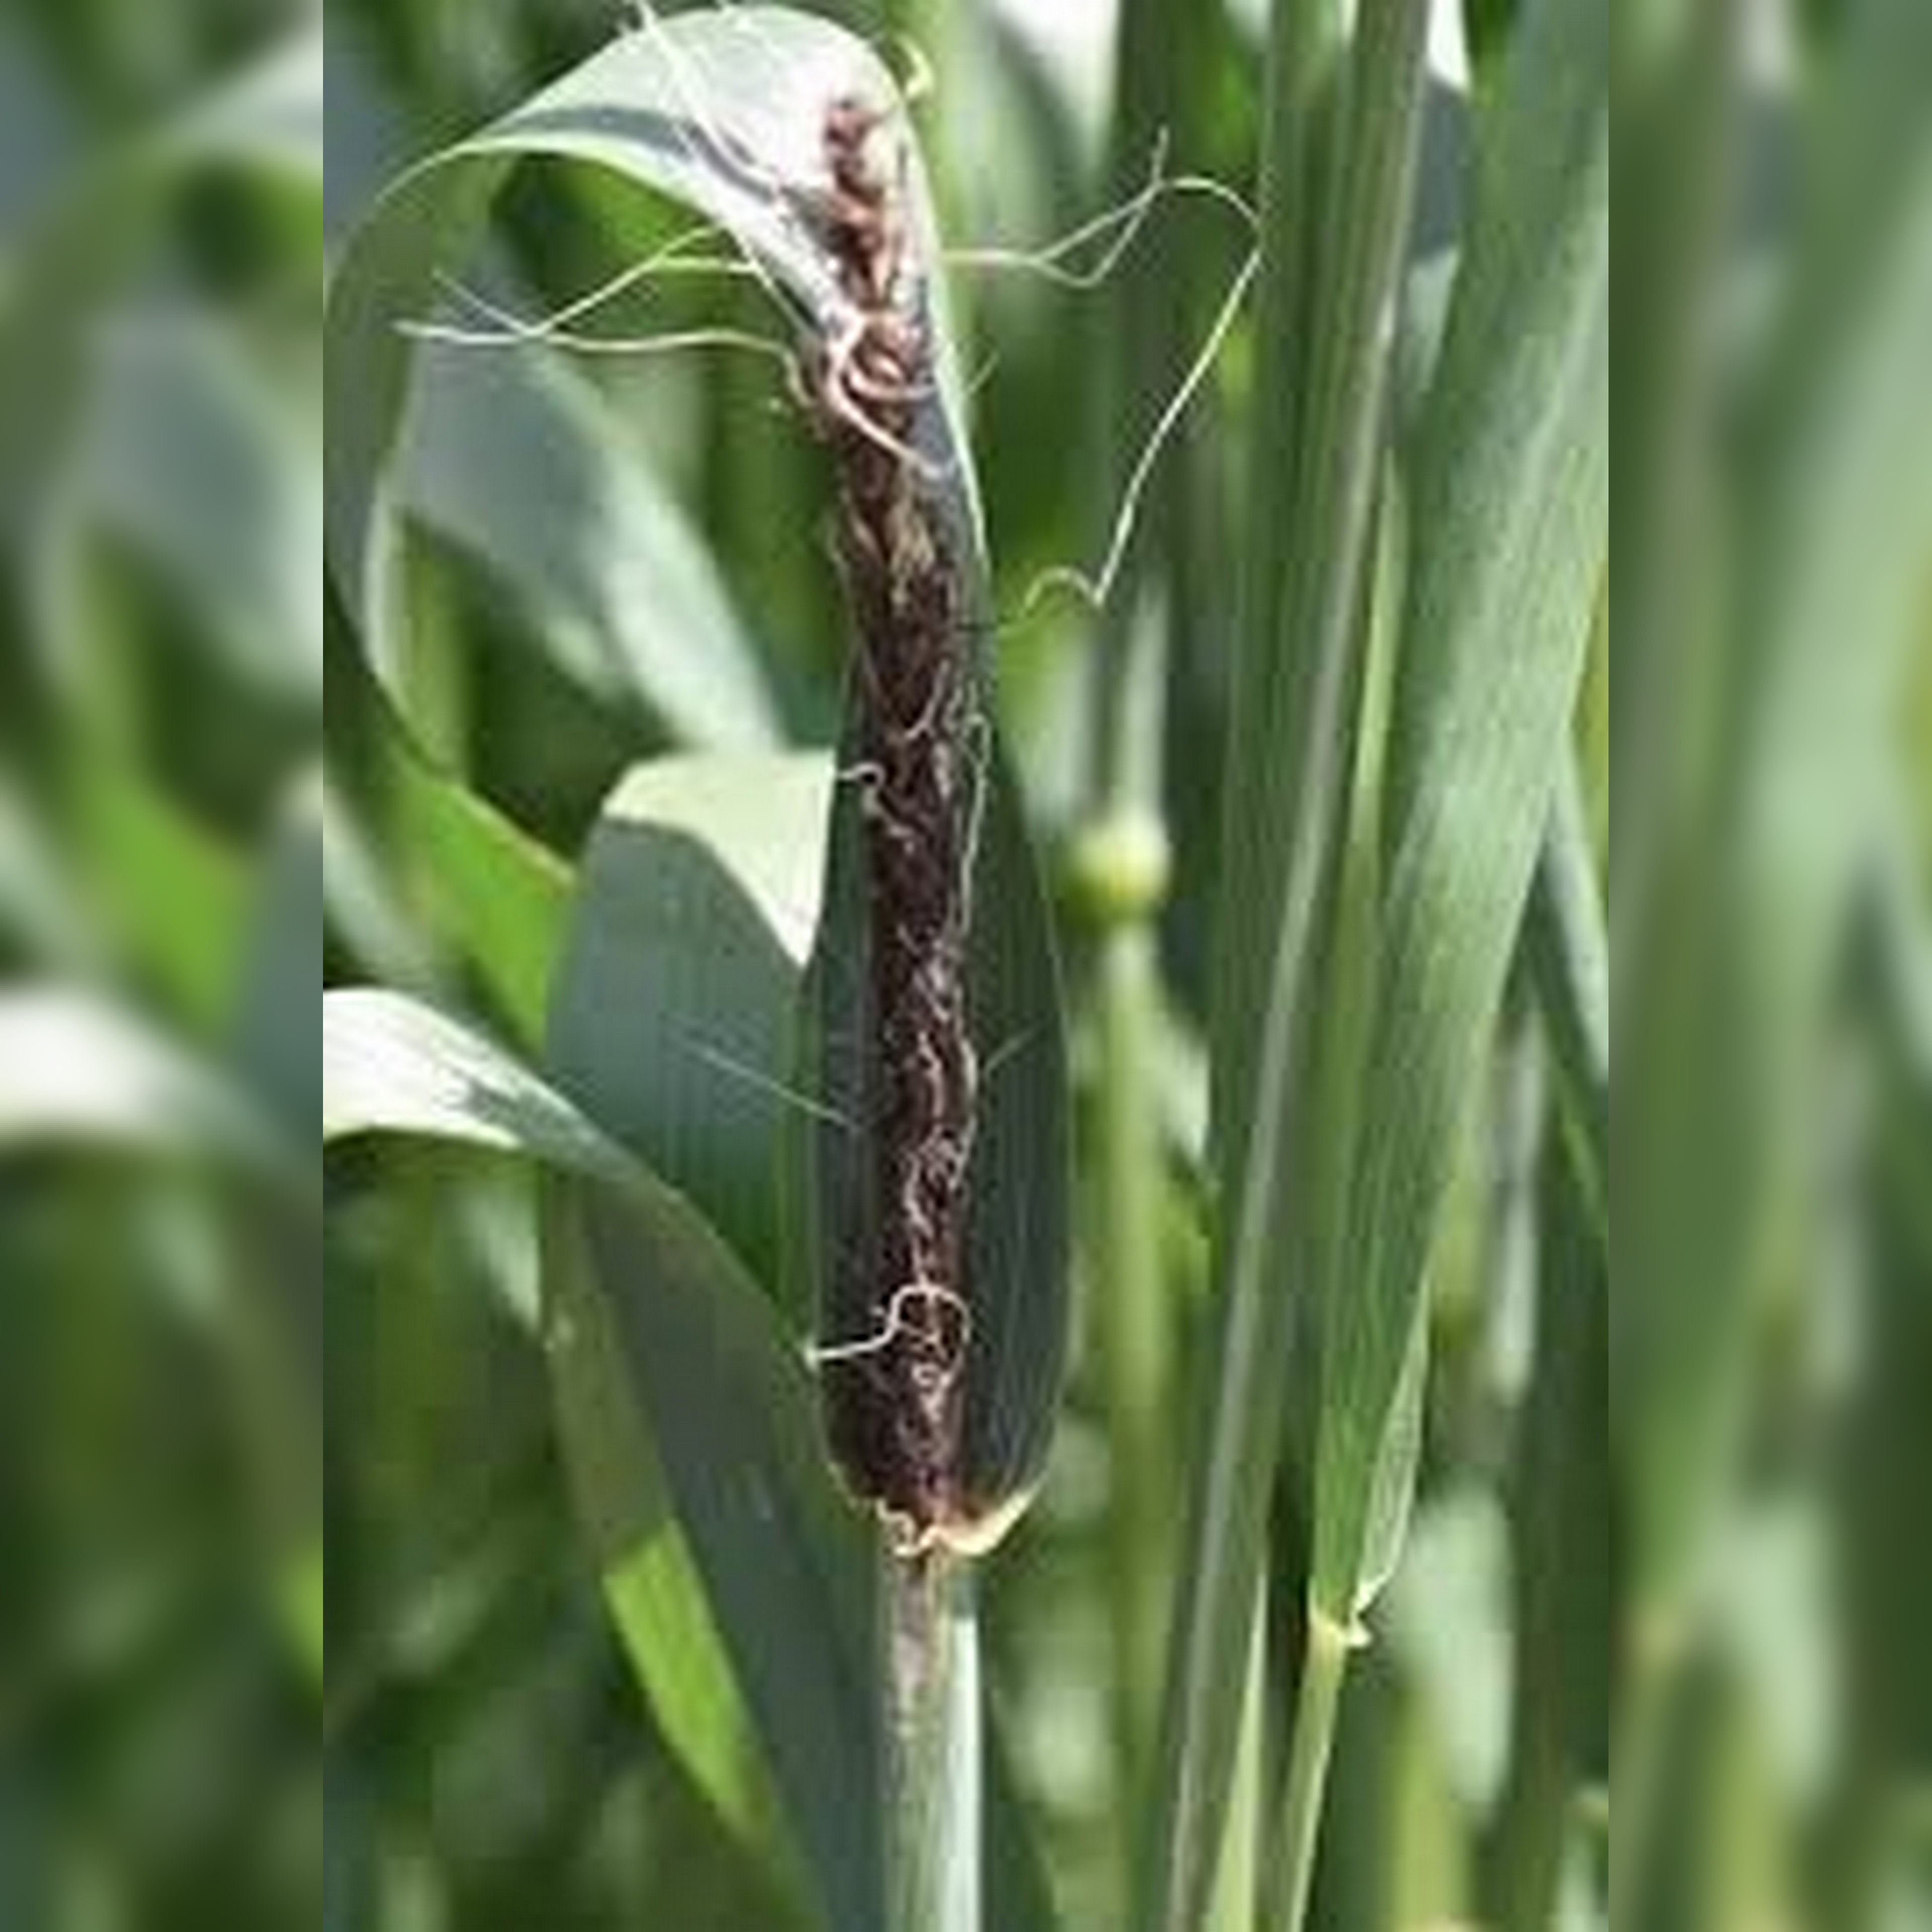Wheat Loose Smut: (724, 122, 1074, 1493)
